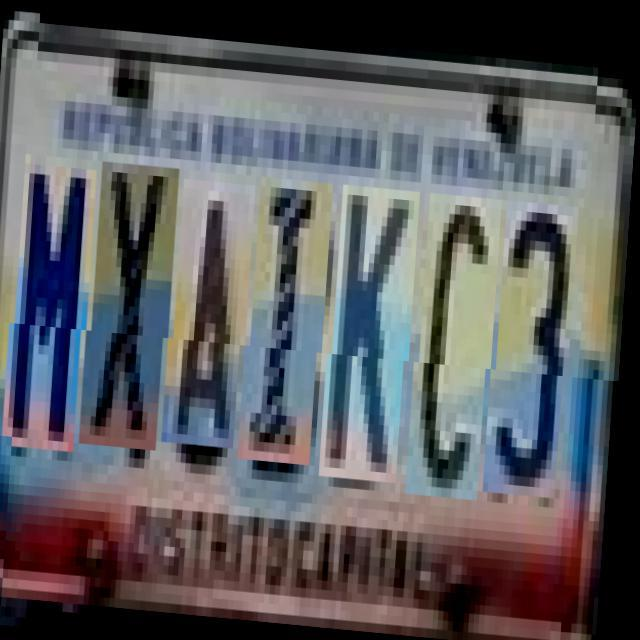3: (494, 190, 581, 487)
A: (172, 175, 258, 444)
C: (416, 184, 504, 490)
I: (248, 172, 334, 460)
K: (330, 177, 422, 475)
M: (12, 162, 98, 450)
X: (90, 160, 182, 448)
